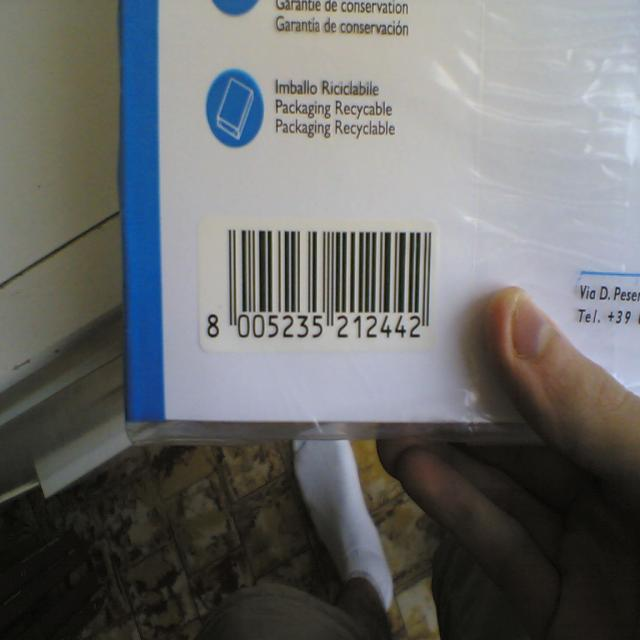barcode: (199, 218, 438, 351)
